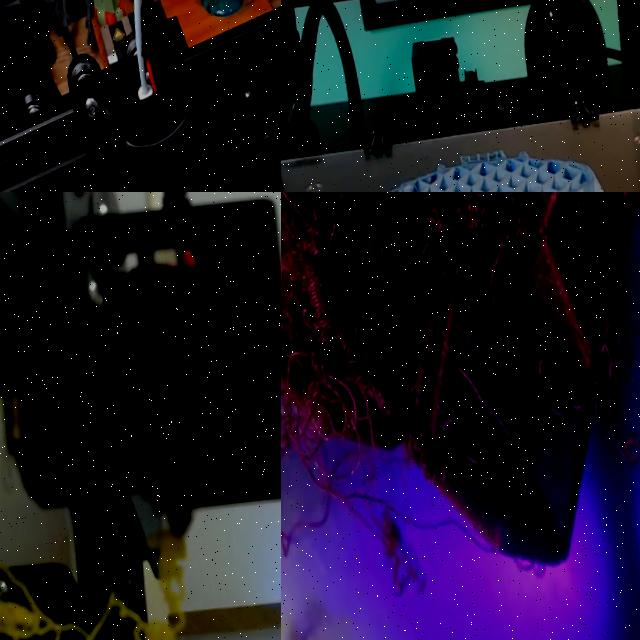spaghetti: (281, 192, 568, 519), (0, 531, 185, 640), (574, 285, 640, 480), (281, 618, 390, 640)
